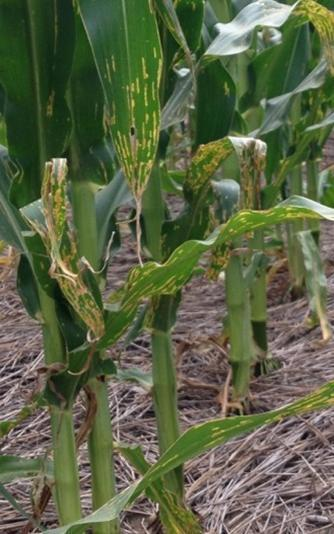Corn_Blight: (21, 145, 120, 365), (199, 123, 298, 258), (82, 27, 179, 150), (241, 1, 334, 84)
